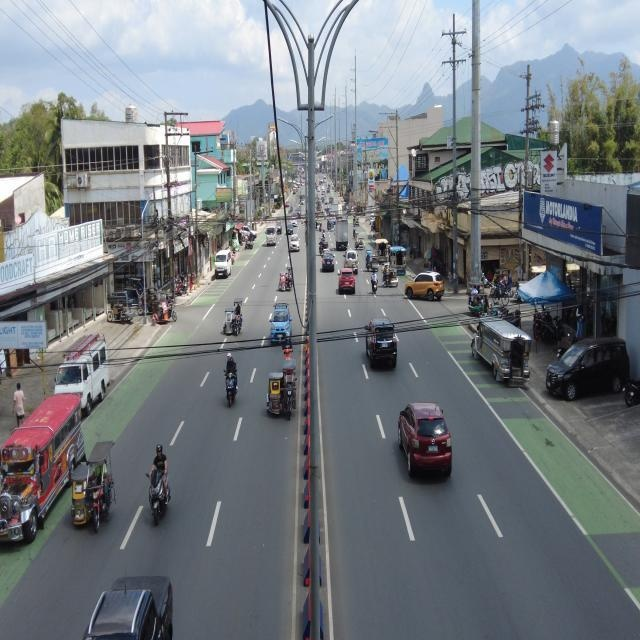Motorcycle: (146, 440, 176, 539), (222, 352, 245, 410)
